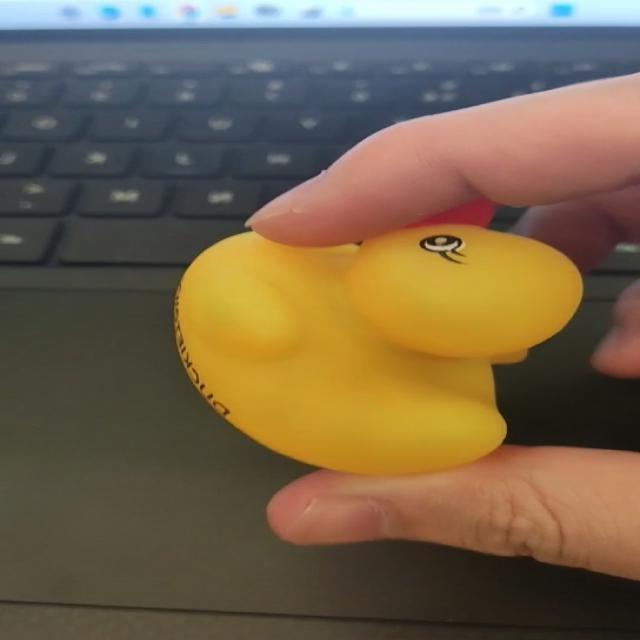rubber-duck: (174, 224, 580, 472)
